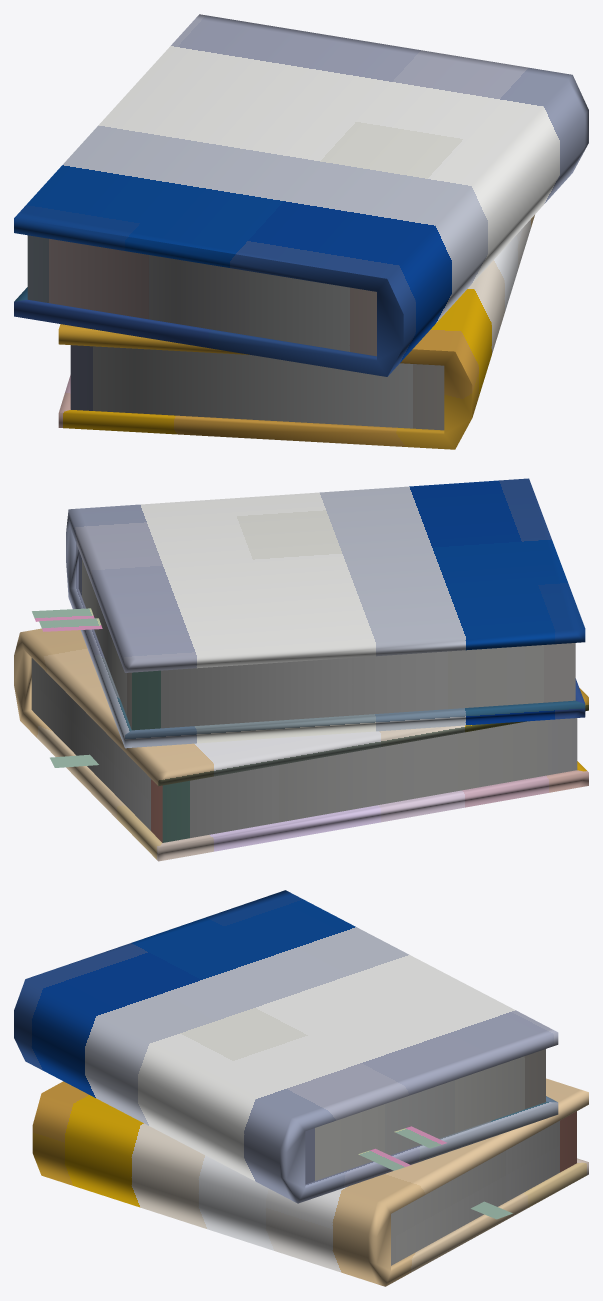
Rendered from a_sch_entrance01_obj_book01.gltf.
The picture shows the model from 3 angles, top to bottom: view 1: azimuth 30°, elevation 25°; view 2: azimuth 150°, elevation 25°; view 3: azimuth 270°, elevation 25°; orthographic projection. The views are drawn at different scales.
Parts seen in each view (by area): view 1: a_sch_entrance01_obj_book01_mesh_shape:a_sch_office01_shelfb; view 2: a_sch_entrance01_obj_book01_mesh_shape:a_sch_office01_shelfb, a_sch_entrance01_obj_book01_mesh_shape:a_sch_office02_storag; view 3: a_sch_entrance01_obj_book01_mesh_shape:a_sch_office01_shelfb, a_sch_entrance01_obj_book01_mesh_shape:a_sch_office02_storag.
Boxes of the visible parts, x1,y1,x2,y2 form: a_sch_entrance01_obj_book01_mesh_shape:a_sch_office01_shelfb: (14, 14, 588, 449); a_sch_entrance01_obj_book01_mesh_shape:a_sch_office01_shelfb: (14, 478, 588, 861); a_sch_entrance01_obj_book01_mesh_shape:a_sch_office02_storag: (32, 608, 102, 767); a_sch_entrance01_obj_book01_mesh_shape:a_sch_office01_shelfb: (14, 890, 588, 1286); a_sch_entrance01_obj_book01_mesh_shape:a_sch_office02_storag: (358, 1126, 512, 1219).
Size of the model in its own units: 0.3529 by 0.1145 by 0.362.
Materials: 2 (2 with a texture image).
